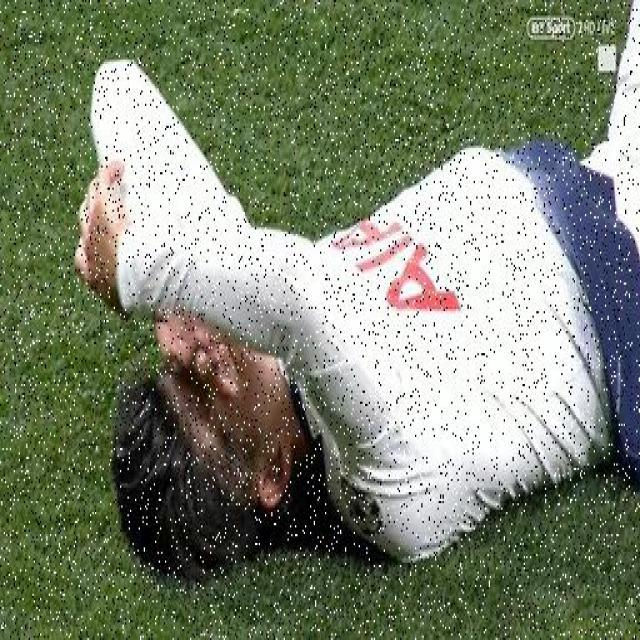fall: (87, 55, 624, 530)
